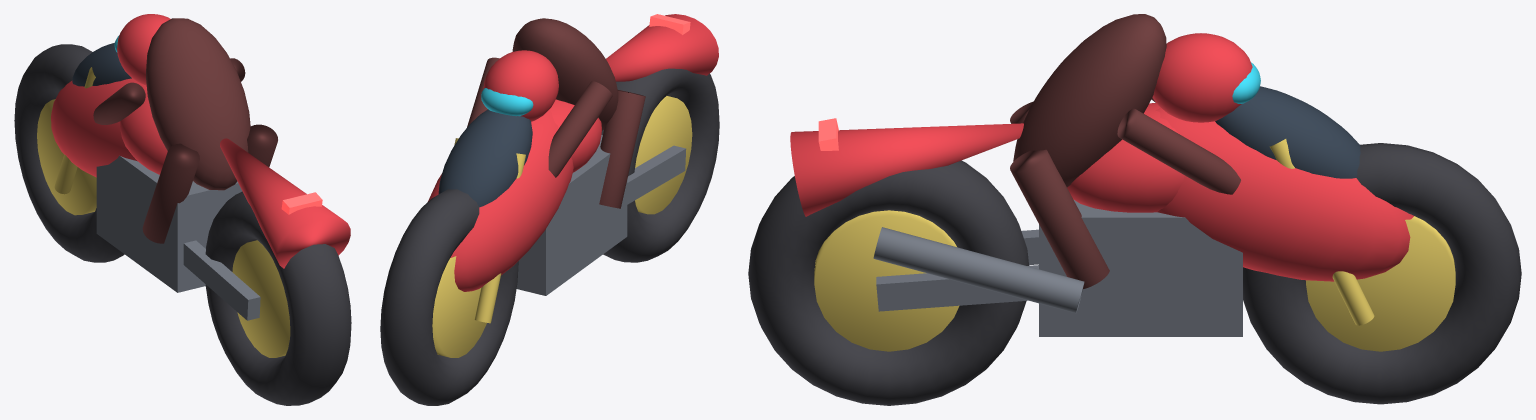
Rendered from moto_rival_1.glb.
3 renders of one model, left to right at view 1: azimuth 30°, elevation 25°; view 2: azimuth 150°, elevation 25°; view 3: azimuth 270°, elevation 25°, orthographic. The views are drawn at different scales.
Parts seen in each view (by area): view 1: Neumatico_-0.82, Torso_Piloto, Bloque_Motor, Neumatico_0.82, Colin_Trasero, Carenado_Frontal, Llanta_-0.82, Pierna_-1, Llanta_0.82, Basculante_-1, Deposito_Comb, Casco_Piloto (+5 smaller); view 2: Neumatico_0.82, Neumatico_-0.82, Carenado_Frontal, Bloque_Motor, Cupula_Aero, Torso_Piloto, Colin_Trasero, Llanta_-0.82, Llanta_0.82, Casco_Piloto, Pierna_-1, Brazo_-1 (+6 smaller); view 3: Neumatico_-0.82, Neumatico_0.82, Carenado_Frontal, Bloque_Motor, Torso_Piloto, Llanta_-0.82, Colin_Trasero, Llanta_0.82, Cupula_Aero, Escape_GP, Casco_Piloto, Pierna_1 (+4 smaller).
Part boxes in pixels (<box>): Neumatico_-0.82: <box>205,191,351,405</box>; Torso_Piloto: <box>146,18,250,190</box>; Bloque_Motor: <box>96,155,242,292</box>; Neumatico_0.82: <box>14,44,124,262</box>; Colin_Trasero: <box>220,138,350,268</box>; Carenado_Frontal: <box>51,78,147,177</box>; Llanta_-0.82: <box>232,240,290,357</box>; Pierna_-1: <box>142,143,199,243</box>; Llanta_0.82: <box>37,99,96,215</box>; Basculante_-1: <box>183,240,260,320</box>; Deposito_Comb: <box>120,93,167,174</box>; Casco_Piloto: <box>117,14,170,85</box>; Neumatico_0.82: <box>380,189,518,405</box>; Neumatico_-0.82: <box>601,68,719,262</box>; Carenado_Frontal: <box>428,110,573,291</box>; Bloque_Motor: <box>516,135,627,295</box>; Cupula_Aero: <box>438,109,532,207</box>; Torso_Piloto: <box>512,18,618,130</box>; Colin_Trasero: <box>606,14,718,81</box>; Llanta_-0.82: <box>635,96,692,214</box>; Llanta_0.82: <box>432,256,486,357</box>; Casco_Piloto: <box>483,50,558,121</box>; Pierna_-1: <box>599,90,645,208</box>; Brazo_-1: <box>548,81,612,177</box>; Neumatico_-0.82: <box>748,160,1028,405</box>; Neumatico_0.82: <box>1243,143,1521,404</box>; Carenado_Frontal: <box>1155,107,1413,281</box>; Bloque_Motor: <box>1039,200,1242,336</box>; Torso_Piloto: <box>1013,14,1166,187</box>; Llanta_-0.82: <box>814,210,959,351</box>; Colin_Trasero: <box>790,123,1023,216</box>; Llanta_0.82: <box>1306,216,1455,351</box>; Cupula_Aero: <box>1215,86,1360,178</box>; Escape_GP: <box>873,227,1084,313</box>; Casco_Piloto: <box>1152,33,1252,122</box>; Pierna_1: <box>1010,149,1109,288</box>.
Size of the model in its own units: 0.6349 by 1.41 by 2.58.
